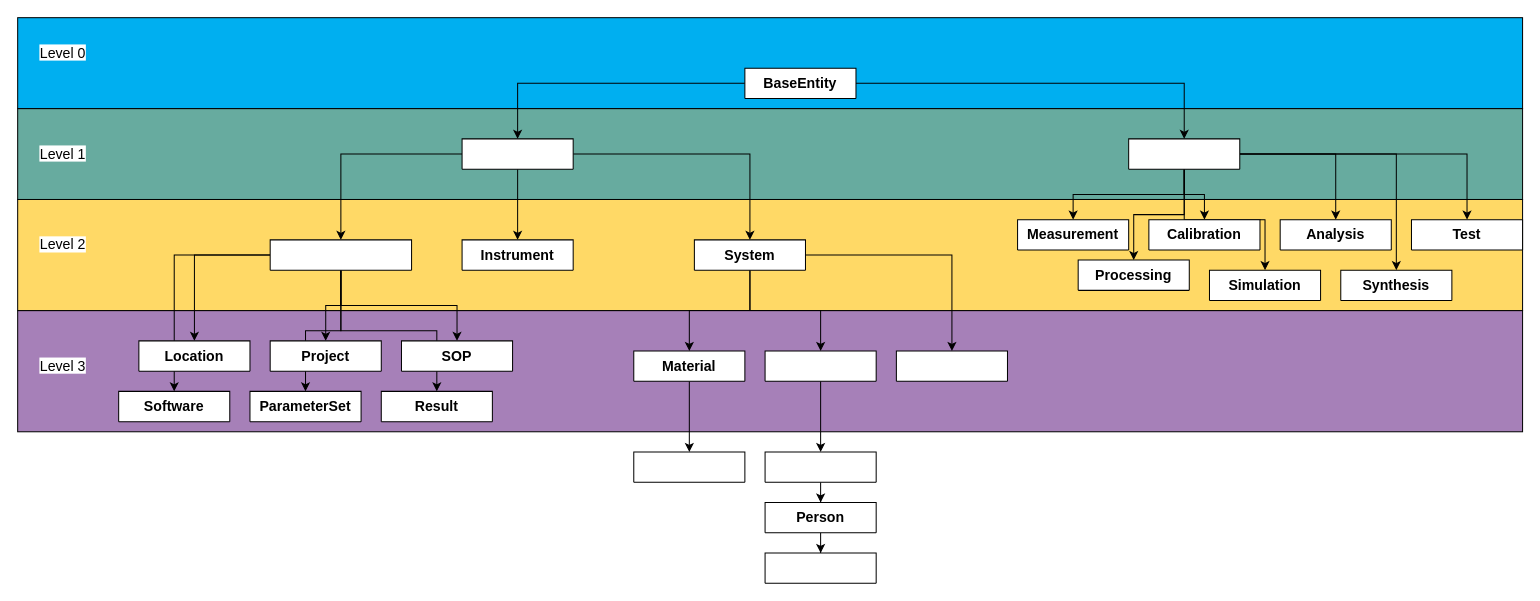
This 1540x601 diagram has some shape labels left out. Each missing label, with the centre of its shape:
"Activity" belongs at (x=1184, y=153).
"Animal" belongs at (x=820, y=466).
"BAMPerson" belongs at (x=820, y=567).
"Chemical" belongs at (x=689, y=466).
"Entity" belongs at (x=517, y=153).
"InformationObject" belongs at (x=340, y=254).
"Organism" belongs at (x=820, y=365).
"Sample" belongs at (x=951, y=365).
